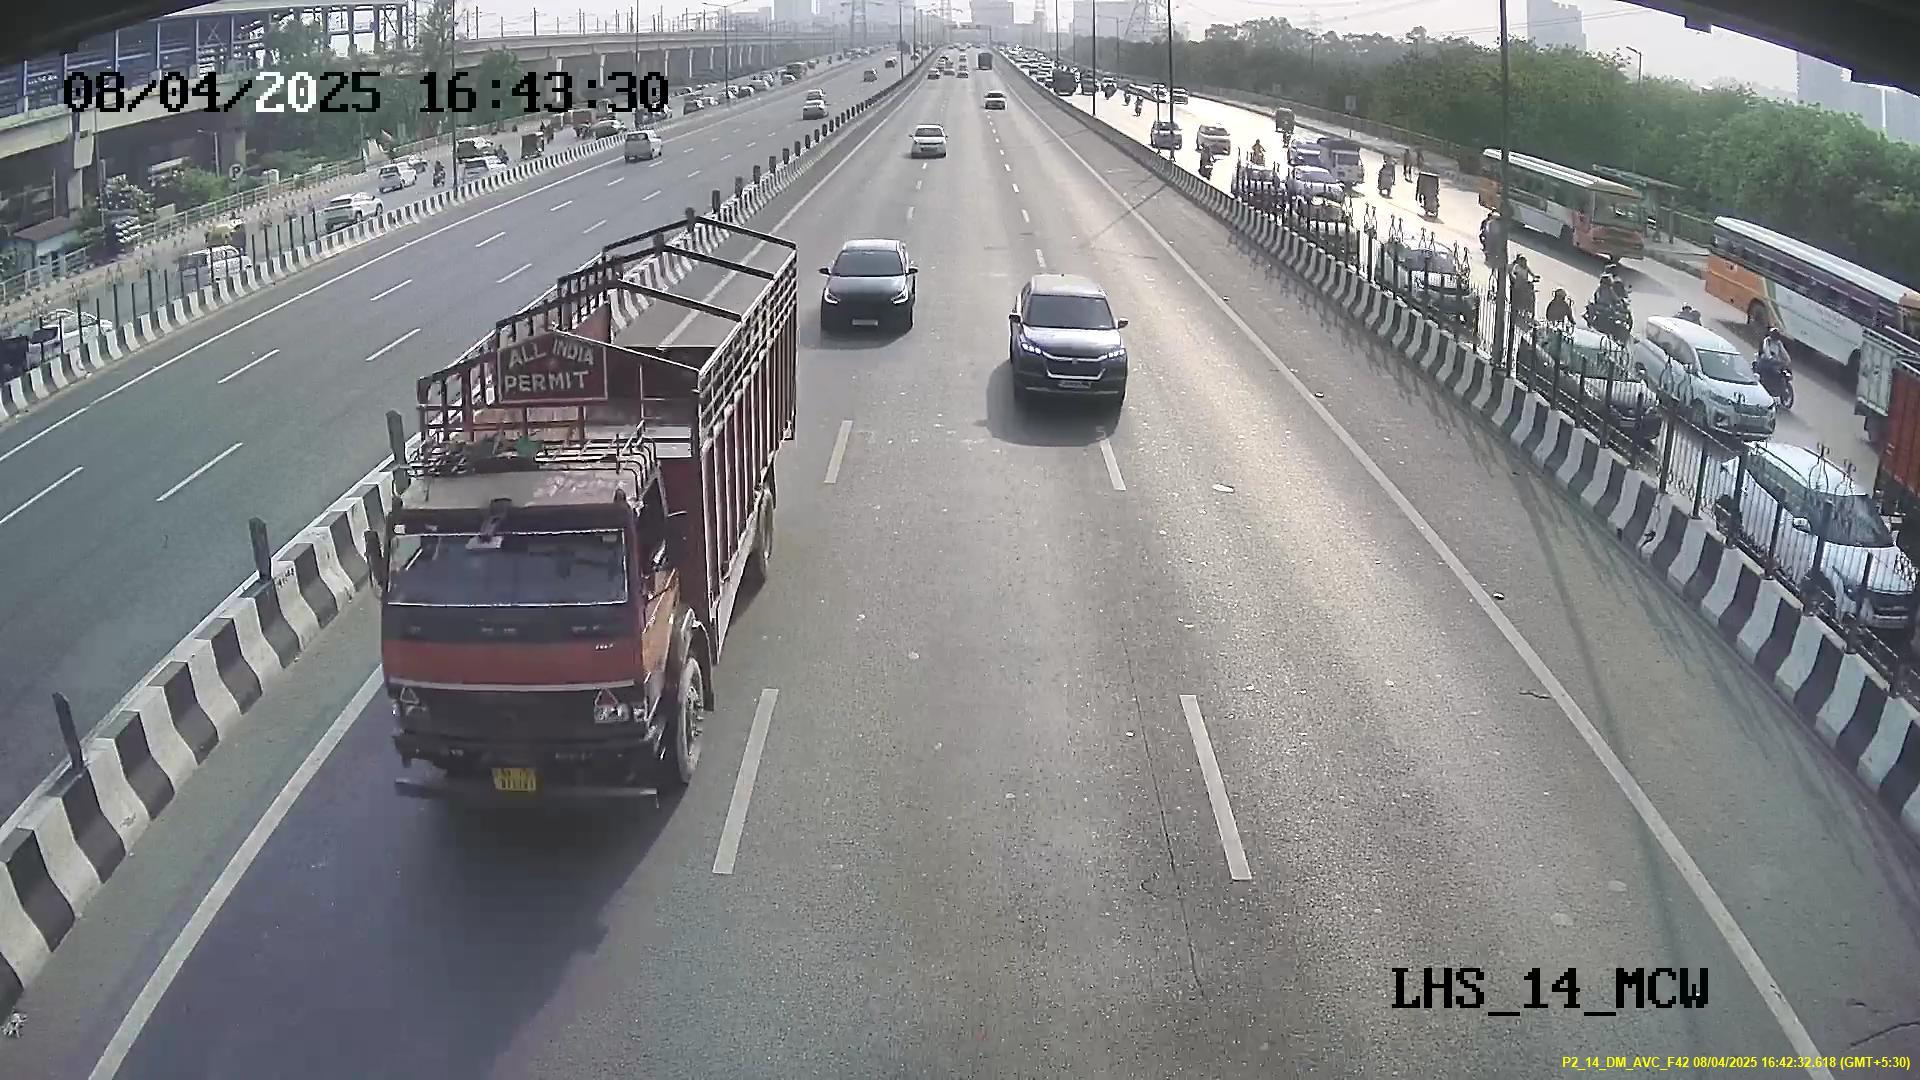car: (1009, 287, 1130, 410), (815, 236, 922, 336)
lcv: (375, 477, 691, 807)
